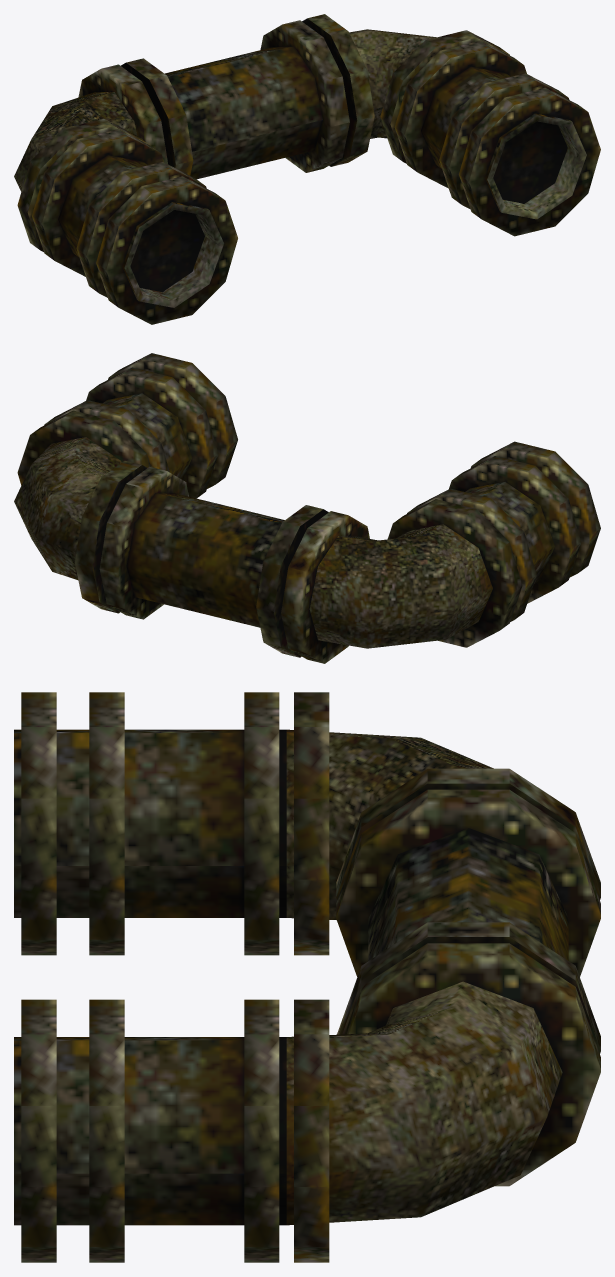
The model's file is control_room_pipe02.dae.
The picture shows the model from 3 angles, top to bottom: view 1: azimuth 30°, elevation 25°; view 2: azimuth 150°, elevation 25°; view 3: azimuth 270°, elevation 25°; orthographic projection. The views are drawn at different scales.
Parts seen in each view (by area): view 1: control_room_pipe02; view 2: control_room_pipe02; view 3: control_room_pipe02.
Part boxes in pixels (x1,y1,x2,y2): control_room_pipe02: (14,14,600,324); control_room_pipe02: (14,353,600,663); control_room_pipe02: (14,692,600,1262).
Bounding box in the file's own units: 1.36 × 0.3464 × 0.807.
